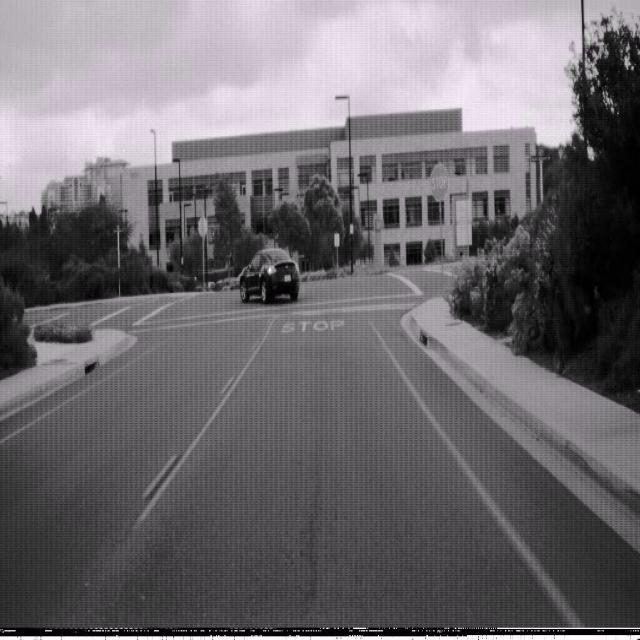stop_sign: (430, 162, 450, 202)
